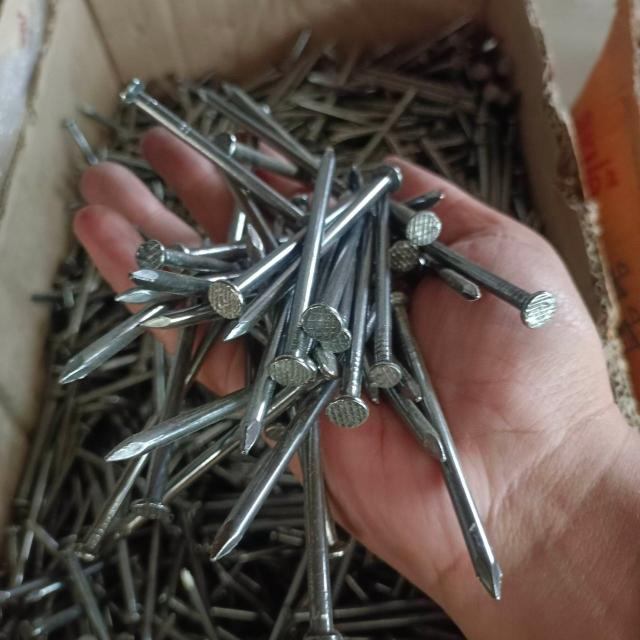3x8 nail: (257, 123, 455, 445)
